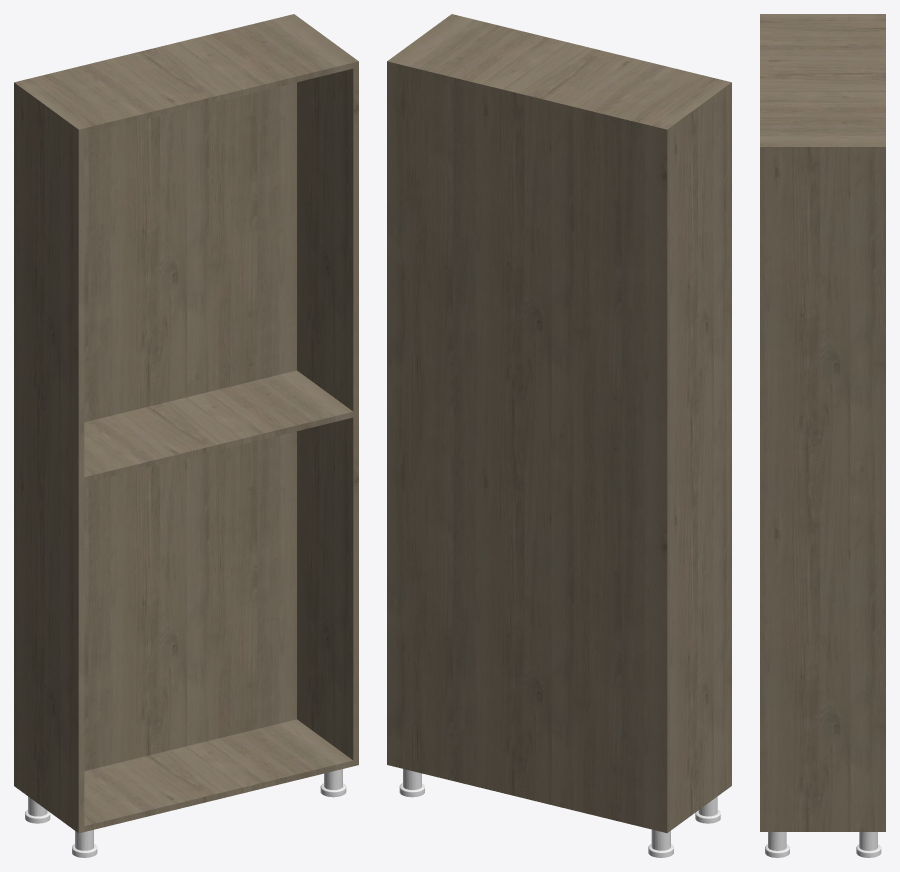
3 views of the same model, side by side, from view 1: azimuth 30°, elevation 25°; view 2: azimuth 150°, elevation 25°; view 3: azimuth 270°, elevation 25° (orthographic). The views are drawn at different scales.
Visible parts, largest first — view 1: Box001, Box016; view 2: Box001; view 3: Box001, Cylinder004, Cylinder005.
Part boxes in pixels (left/top/right/bottom): Box001: left=14, top=14, right=358, bottom=833; Box016: left=84, top=370, right=353, bottom=482; Box001: left=387, top=14, right=731, bottom=832; Box001: left=760, top=14, right=885, bottom=831; Cylinder004: left=856, top=832, right=881, bottom=857; Cylinder005: left=765, top=832, right=789, bottom=857.
Bounding box in the file's own units: 1 × 2.5 × 0.4001.
2 materials, 1 textured.
